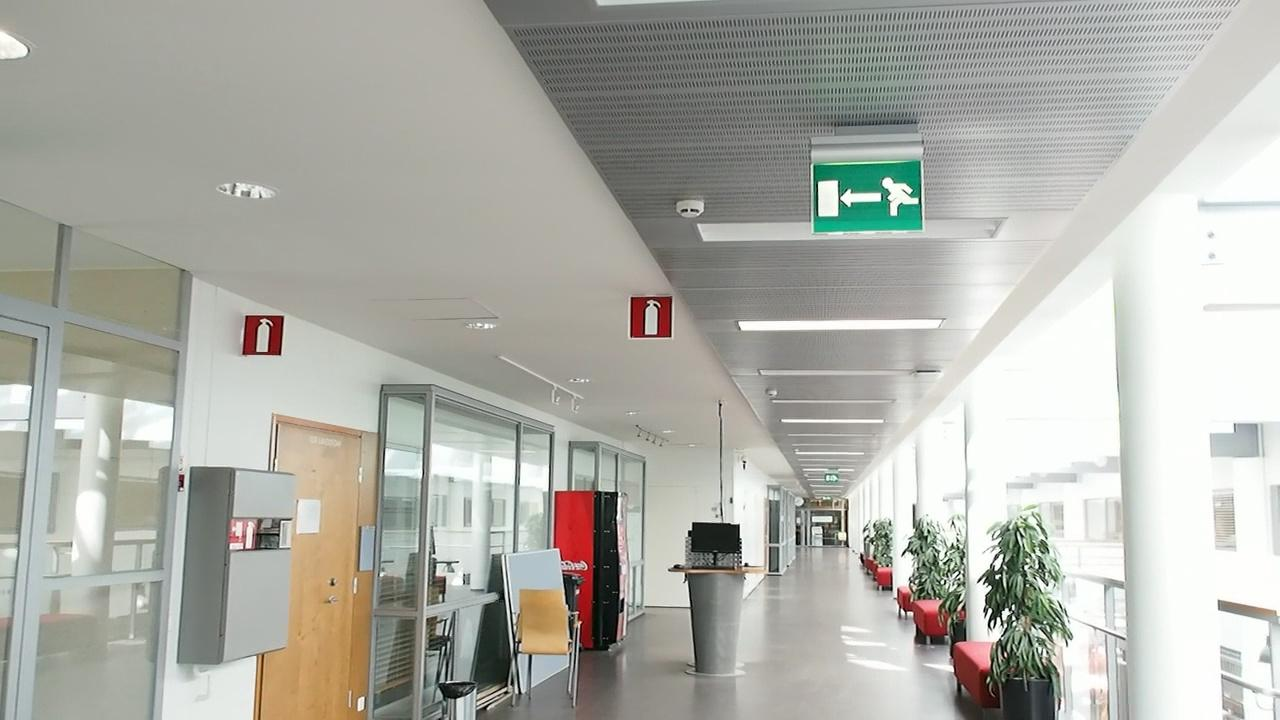chair: (504, 555, 575, 700)
exit: (811, 153, 932, 236)
